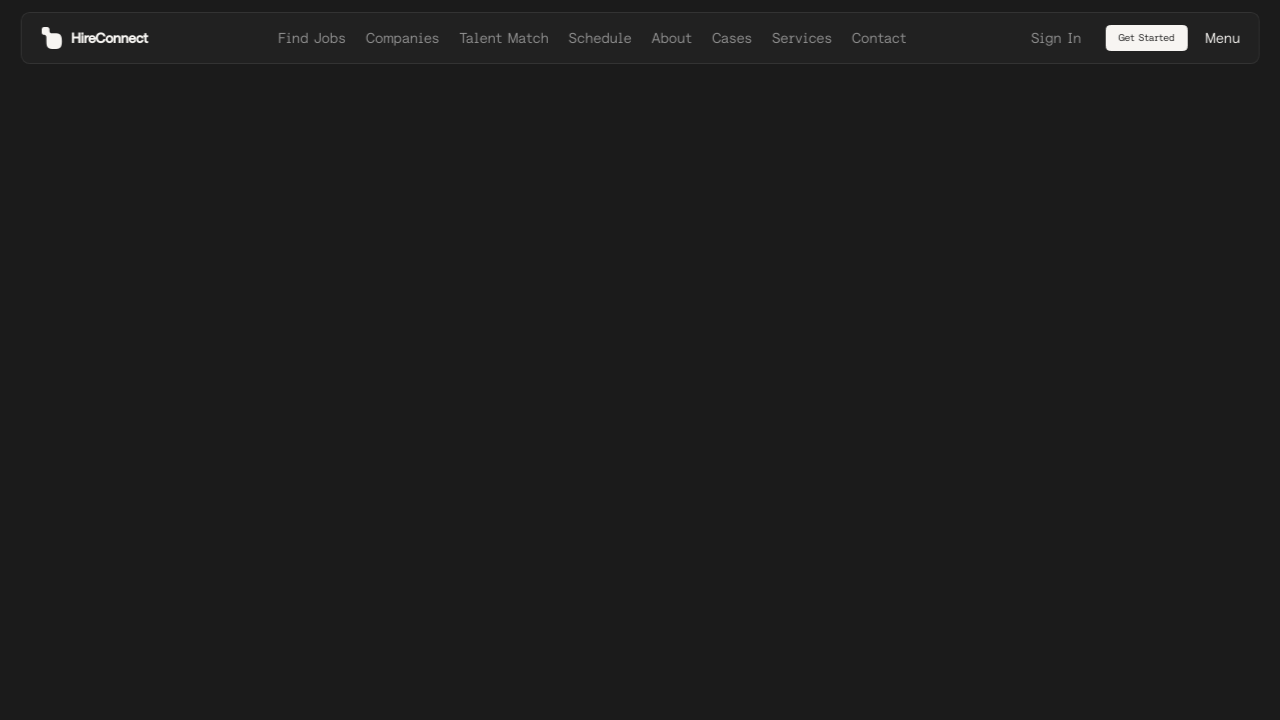
Test: Navbar & Account Menu Component › toggles mobile menu on menu button click
Step 1. Click the button "Menu" → (1223, 38), box x1=1199 y1=23 x2=1246 y2=52
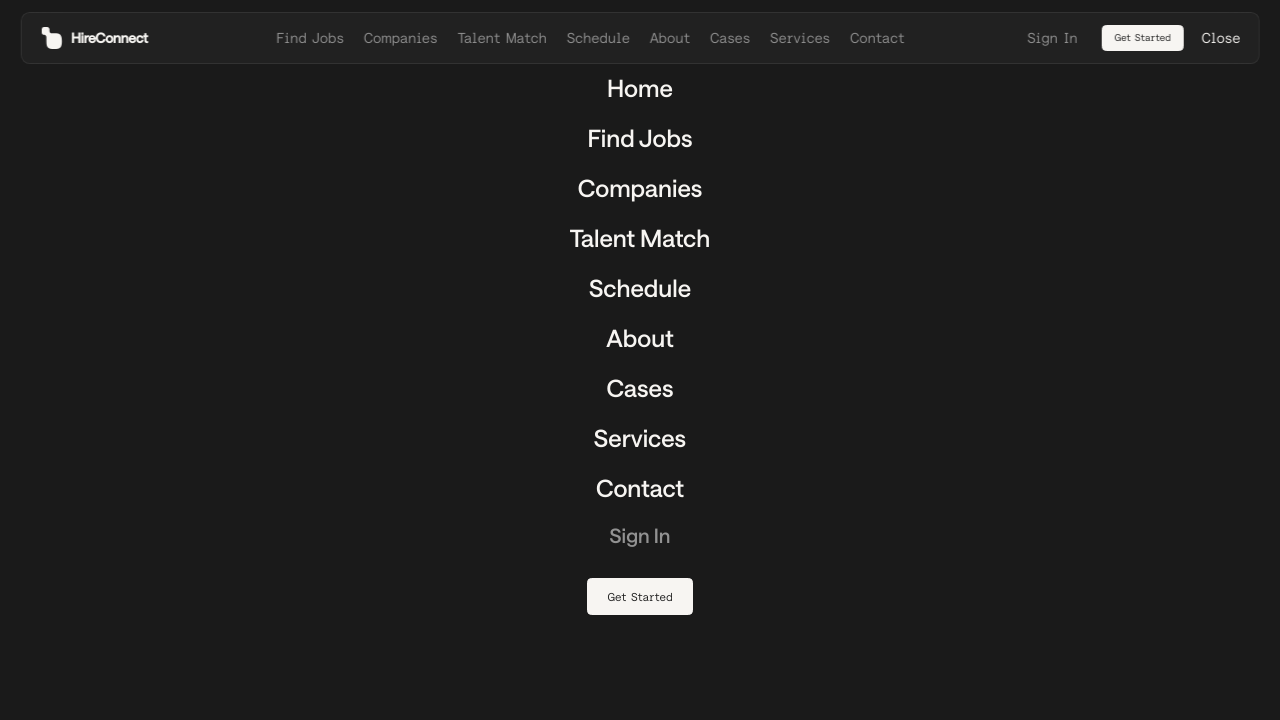
Check: the button "Close" is shown, box x1=1196 y1=23 x2=1246 y2=52
